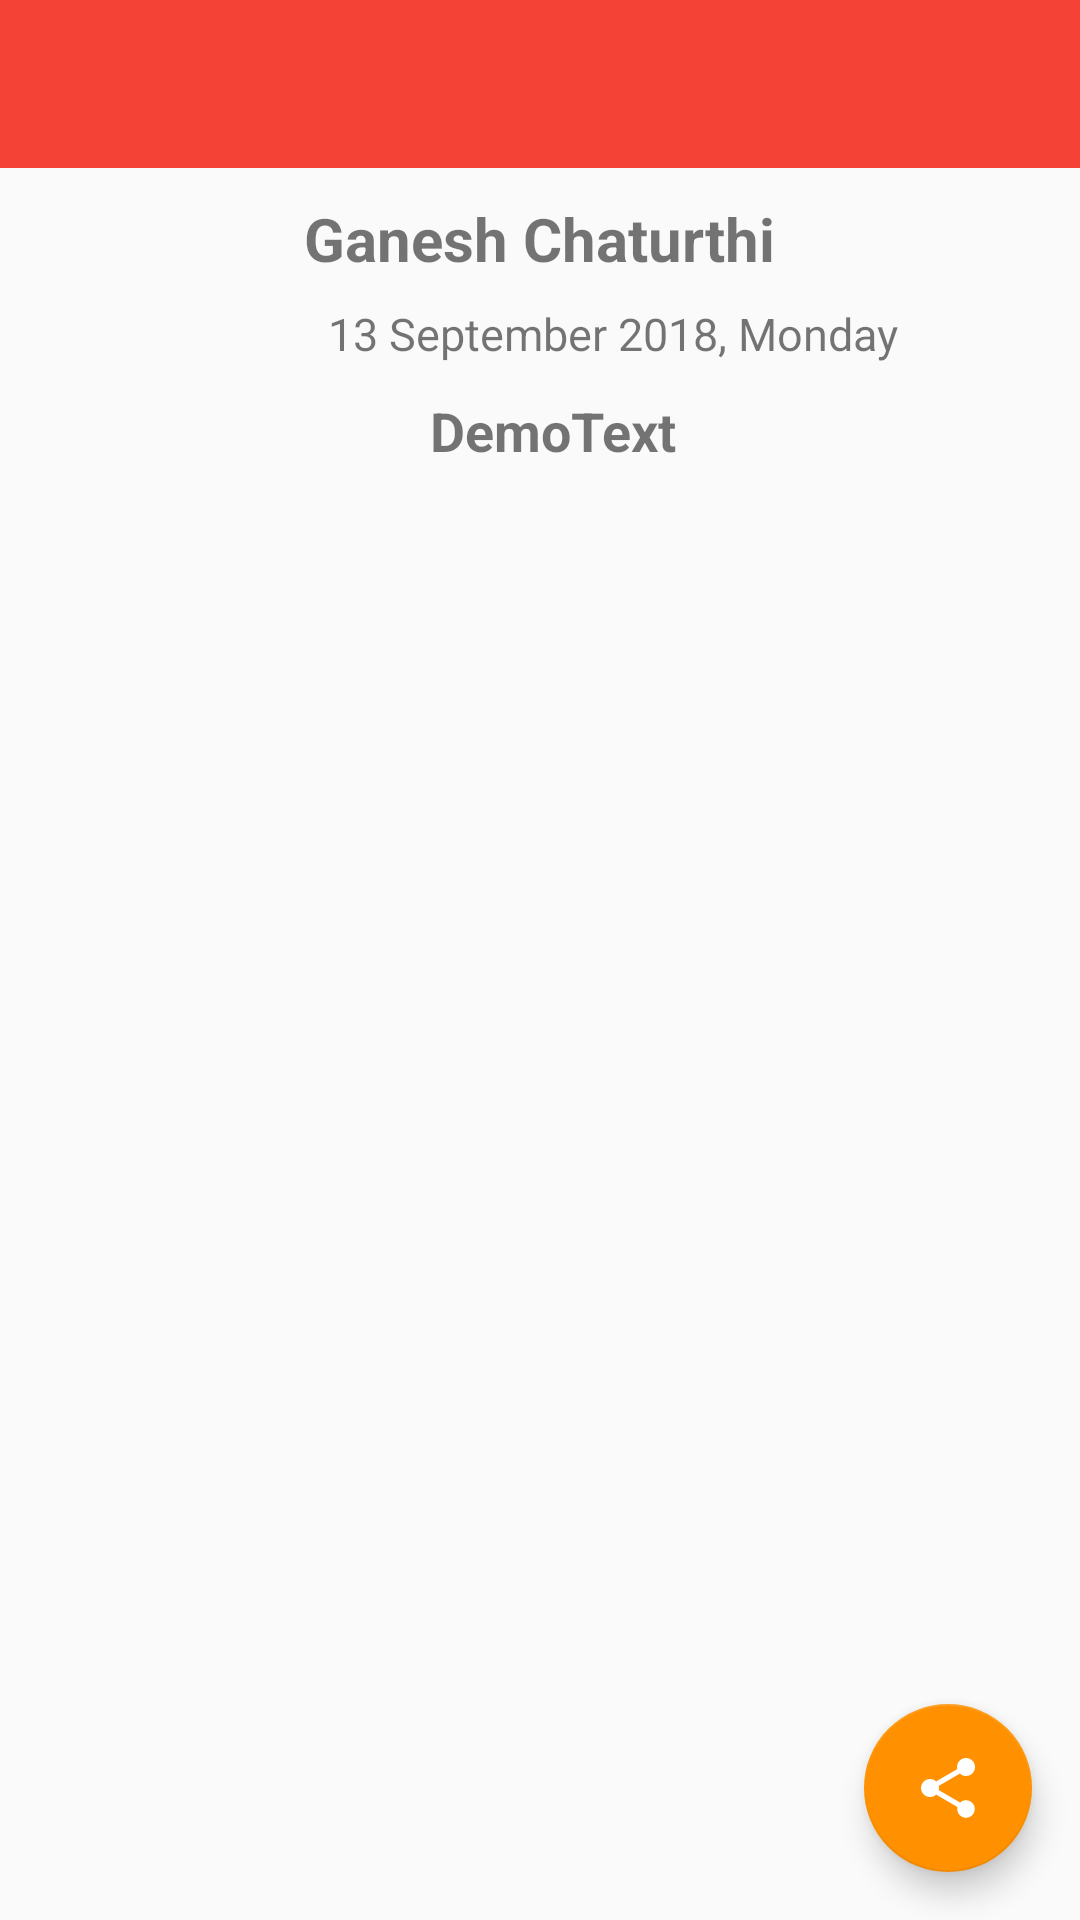

Locate icon controls on the screen. Image size 1080 x 1920, boxes as [x1=x1, y1=y1, x2=x2, y2=y2].
share: [x1=864, y1=1704, x2=1032, y2=1872]
